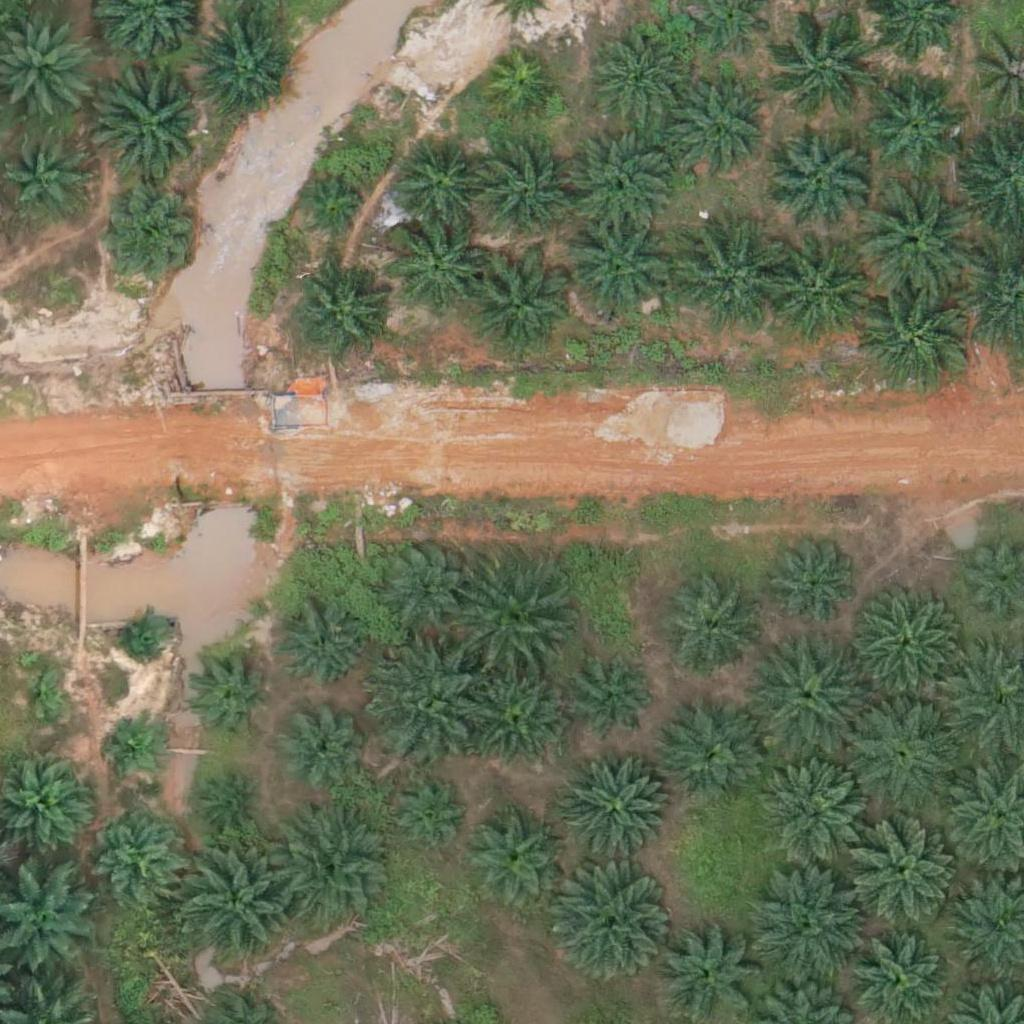Kelapa_Sawit: (551, 868, 664, 982), (277, 817, 390, 931), (845, 818, 958, 931), (845, 589, 958, 702), (759, 759, 872, 872), (182, 840, 295, 953), (859, 283, 972, 396), (564, 124, 677, 237), (561, 212, 674, 325), (463, 251, 576, 364), (844, 695, 956, 809), (771, 4, 883, 118), (669, 221, 781, 335), (757, 638, 869, 751), (754, 874, 866, 987), (562, 754, 674, 867), (459, 567, 571, 680), (369, 646, 481, 759), (858, 183, 970, 296), (759, 240, 871, 353), (96, 64, 208, 177), (763, 532, 863, 633), (657, 920, 757, 1021), (658, 705, 758, 806), (465, 665, 565, 766), (371, 532, 471, 633), (766, 129, 866, 230), (666, 80, 766, 181), (474, 146, 574, 247), (389, 137, 489, 238), (191, 18, 291, 119), (291, 263, 391, 364), (99, 191, 199, 292), (662, 582, 762, 682), (466, 807, 566, 907), (864, 71, 964, 171), (589, 28, 689, 128), (384, 217, 484, 317), (277, 603, 364, 692), (571, 656, 658, 744), (384, 773, 471, 861), (277, 702, 364, 790), (93, 806, 180, 894), (187, 650, 274, 738), (5, 136, 92, 224), (482, 51, 557, 126), (297, 175, 372, 250), (109, 719, 159, 770), (116, 609, 166, 659), (207, 778, 257, 828), (19, 672, 69, 722)
